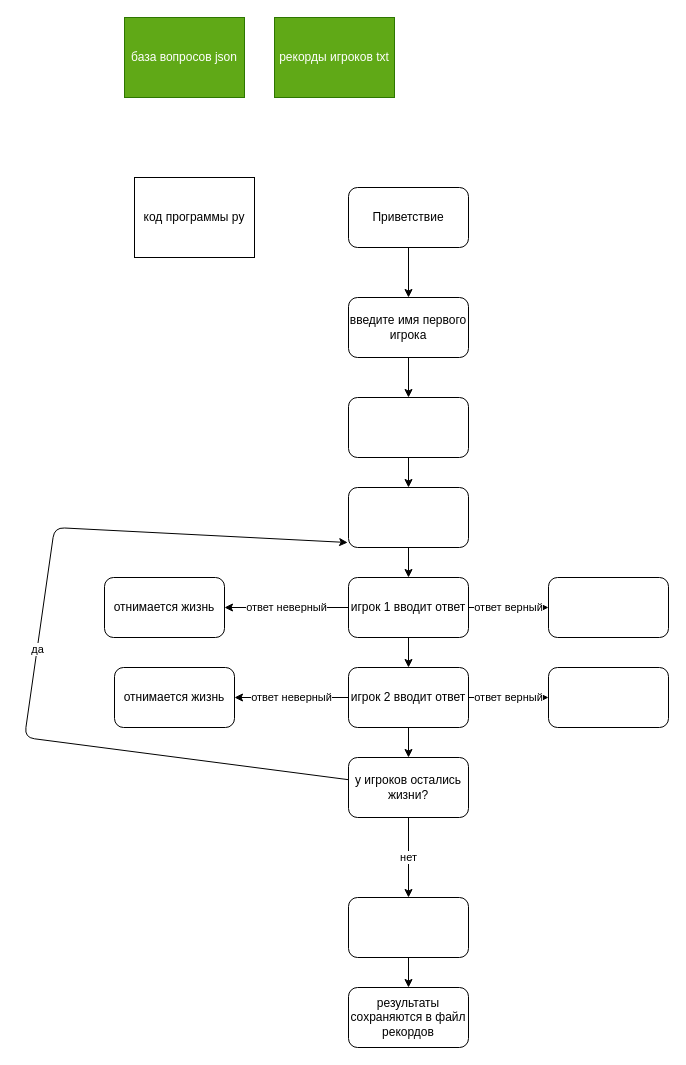
This 686x1065 diagram has some shape labels left out. Here are the shapes that lost their labels. From the top down, the centre of each, then its label:
the point at 408,427: введите имя второго игрока
the point at 408,517: Выводит случайный вопрос из списка
the point at 608,607: игрок 1 получает 1 балл
the point at 608,697: игрок 2 получает 1 балл
the point at 408,927: игрок без жизней проиграл
